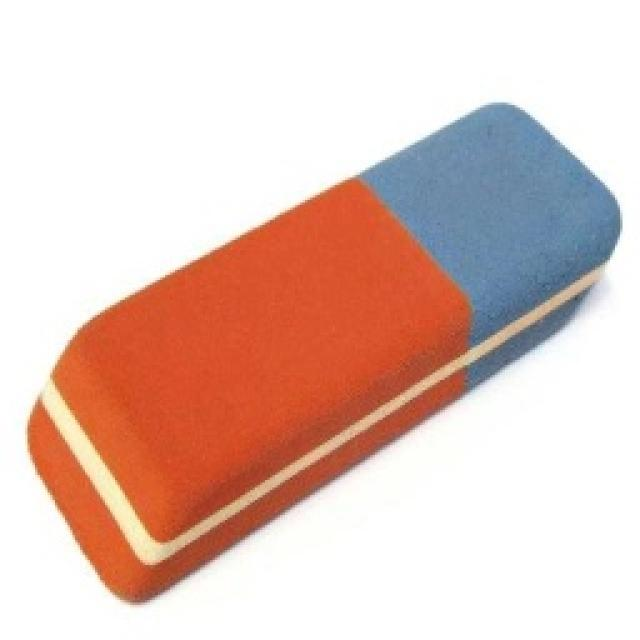Silgi: (27, 101, 623, 604)
